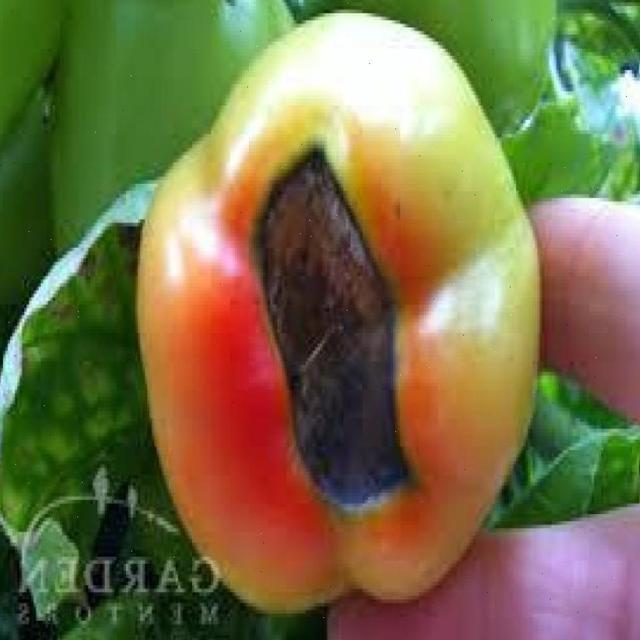Blossom End Rot Fruit: (173, 90, 279, 348)
